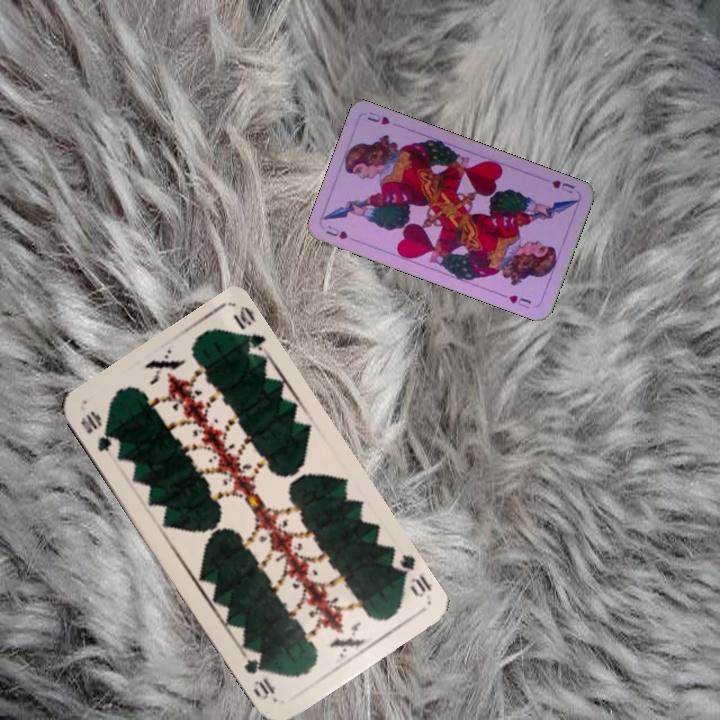G10: (387, 550, 435, 601), (76, 407, 115, 455)
HU: (322, 221, 360, 244), (548, 176, 577, 196)
